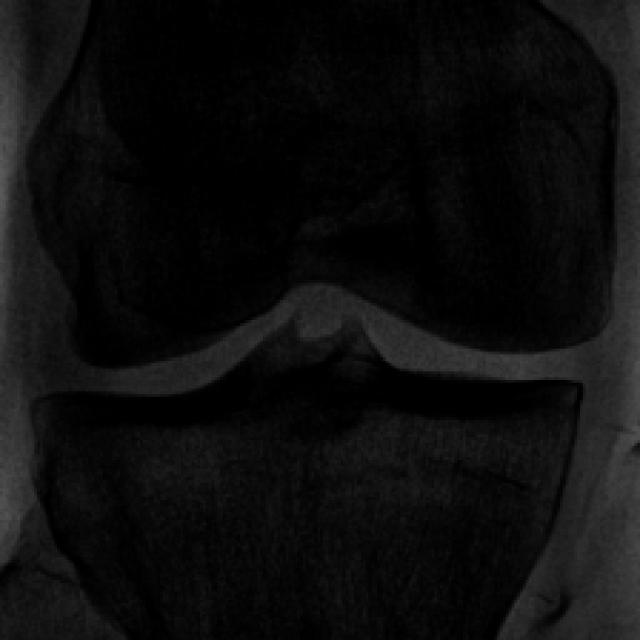femur: (25, 0, 618, 369)
tibia: (29, 307, 581, 640)
